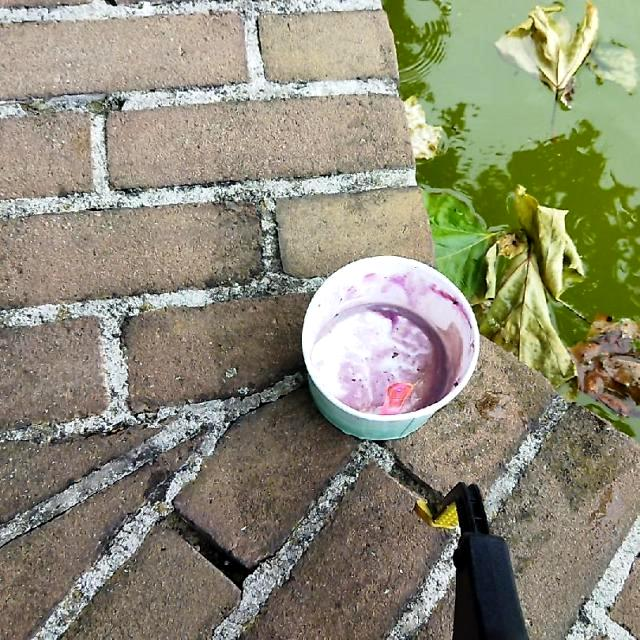Paper: (298, 252, 482, 442)
